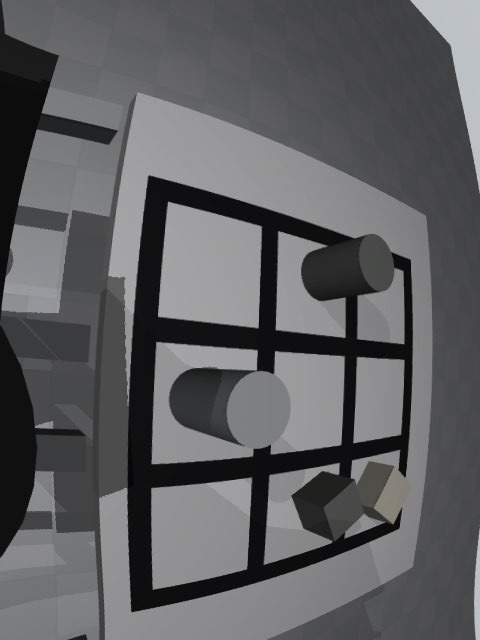can: (169, 368, 291, 449)
cube: (291, 471, 364, 542)
cylinder: (301, 234, 394, 301)
foam: (356, 461, 412, 525)
